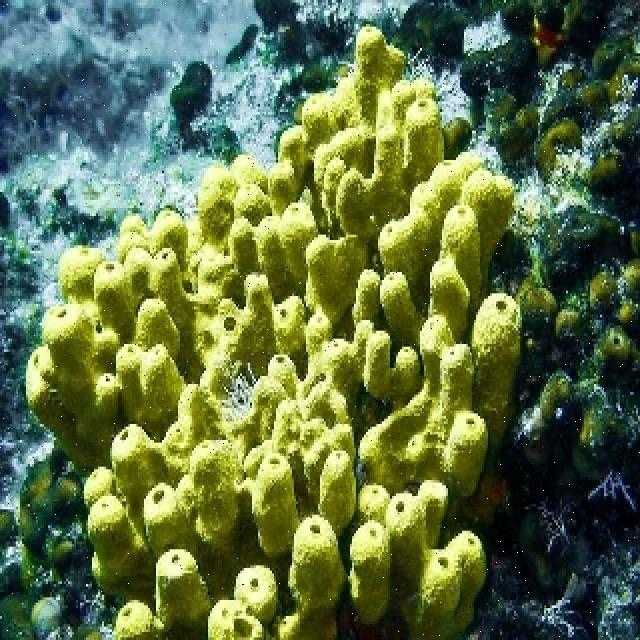reefs: (25, 22, 522, 637), (477, 39, 638, 476), (0, 439, 120, 637)
